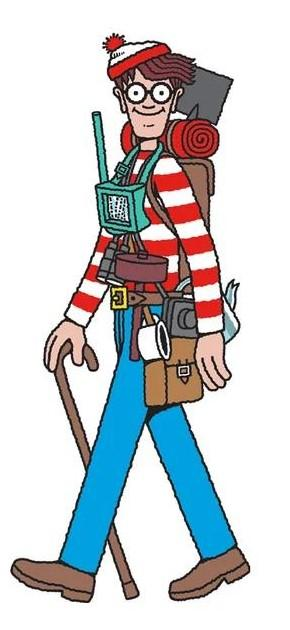waldos: (10, 33, 252, 603)
